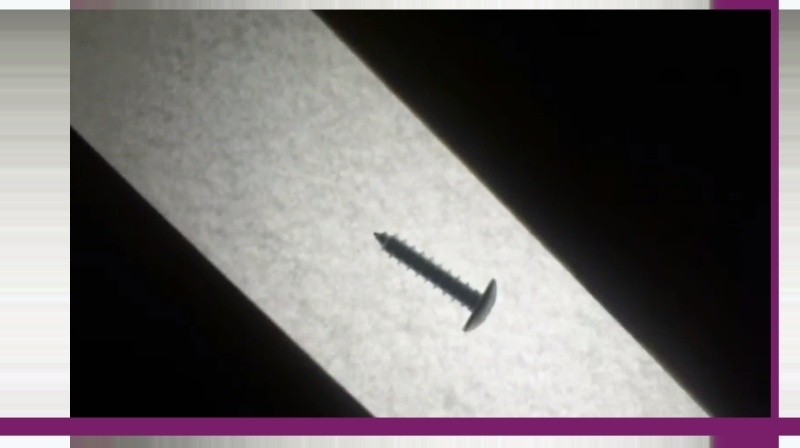S003: (369, 229, 504, 333)
